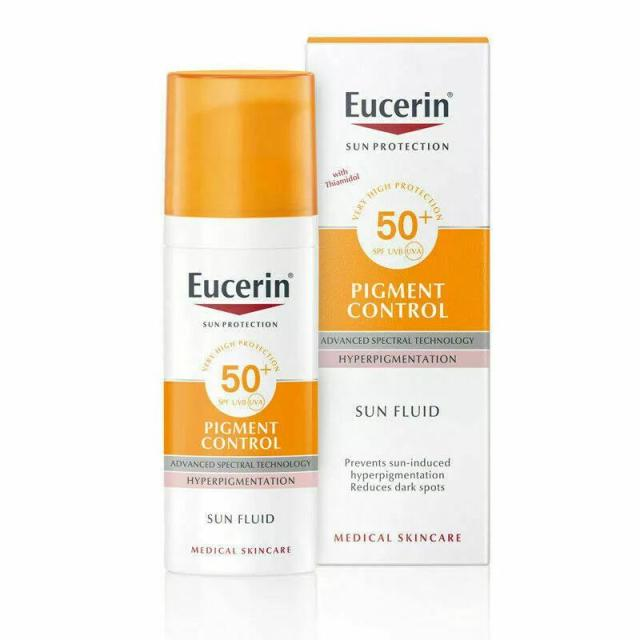cosmotic: (318, 40, 493, 555), (170, 77, 320, 566)
